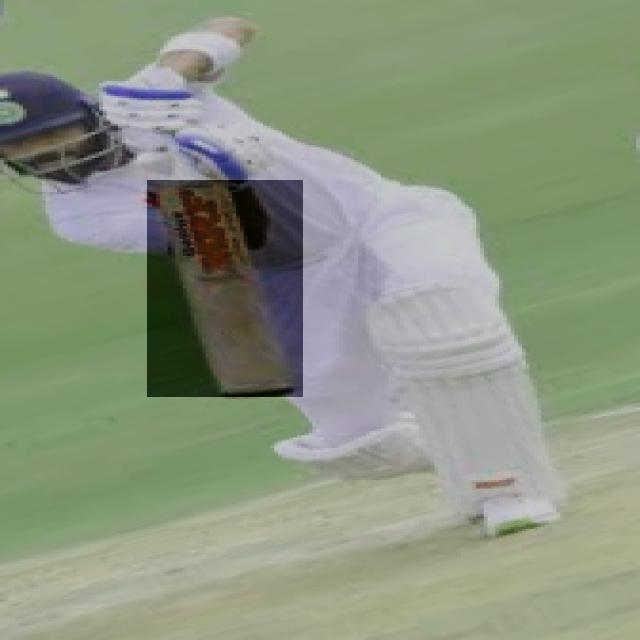bat: (146, 179, 305, 394)
toe: (226, 388, 297, 397)
